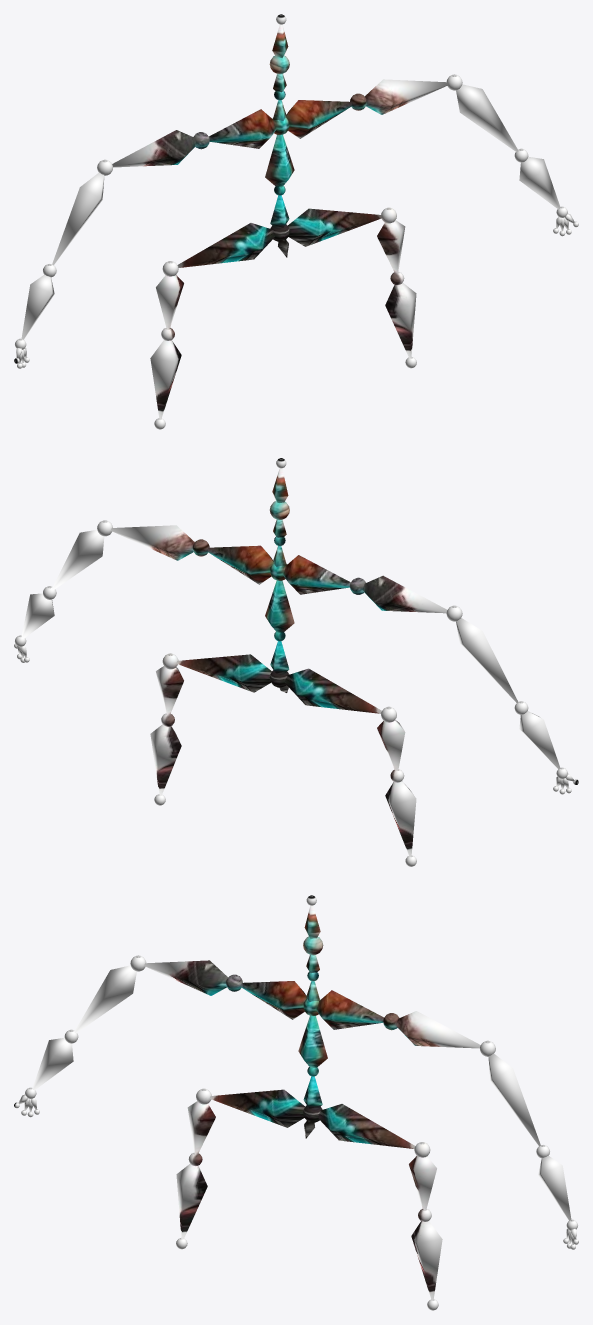
File: creature_mesh.obj
3 views of the same model, one above another, from view 1: azimuth 30°, elevation 25°; view 2: azimuth 150°, elevation 25°; view 3: azimuth 330°, elevation 25° (orthographic).
Size of the model in its own units: 2.25 by 1.45 by 0.2002.
Materials: 1 (1 with a texture image).
